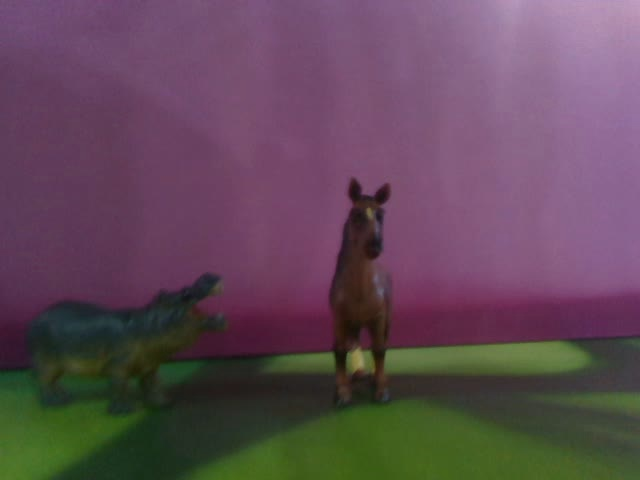toy: (27, 272, 227, 415), (327, 172, 393, 406)
